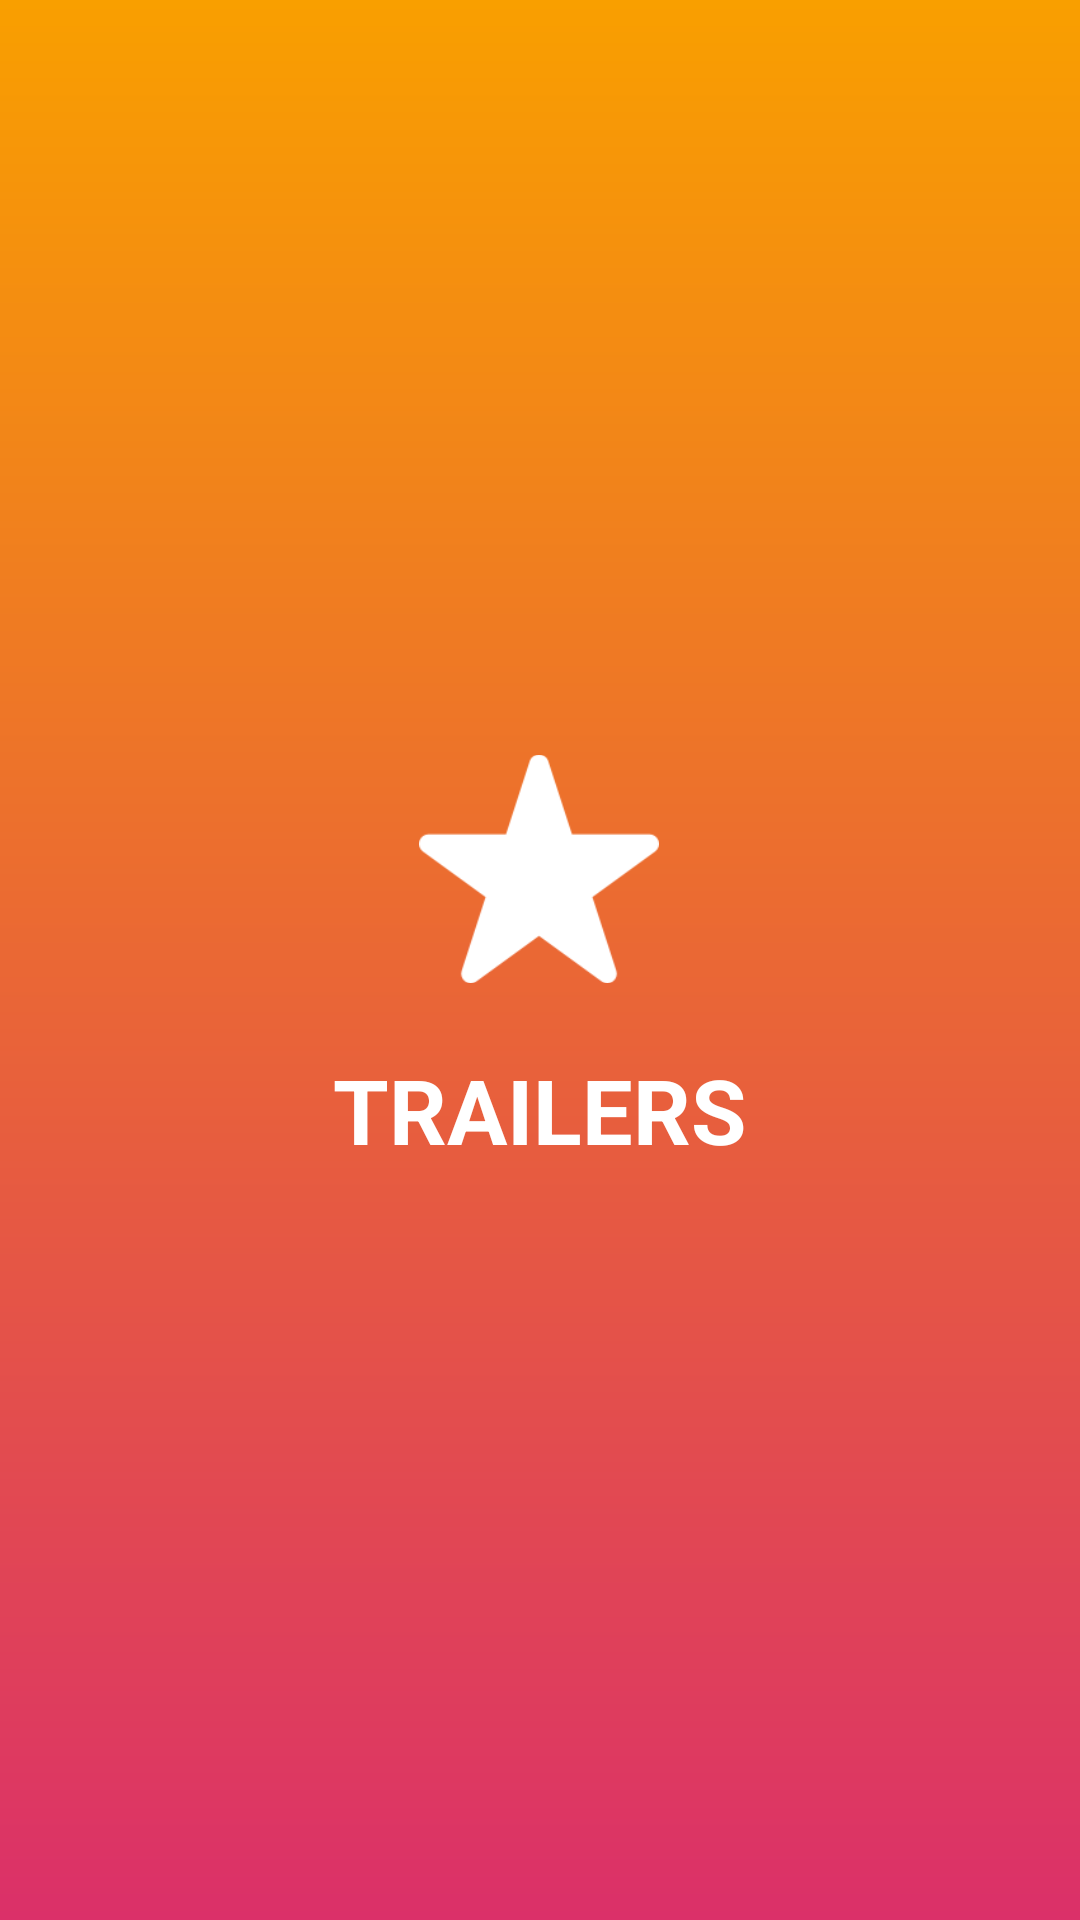

Where to tap for icons on this 1080*1920 app screen, as point (x, y):
star: point (539, 869)
